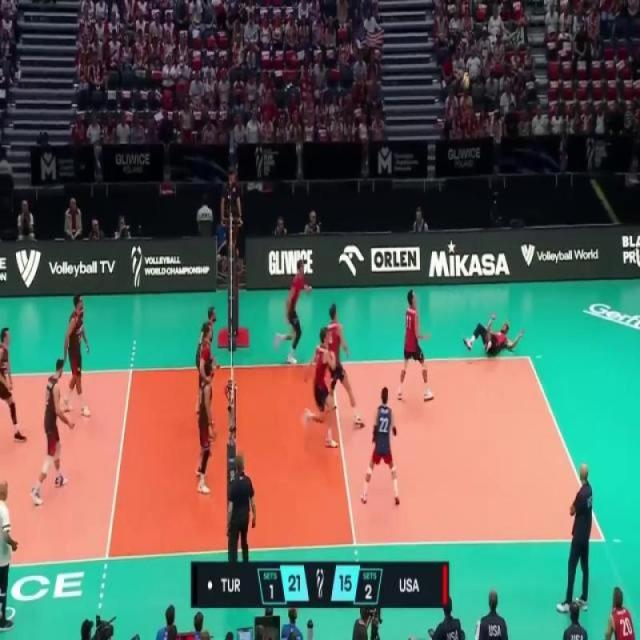volleyball: (461, 70, 471, 94)
